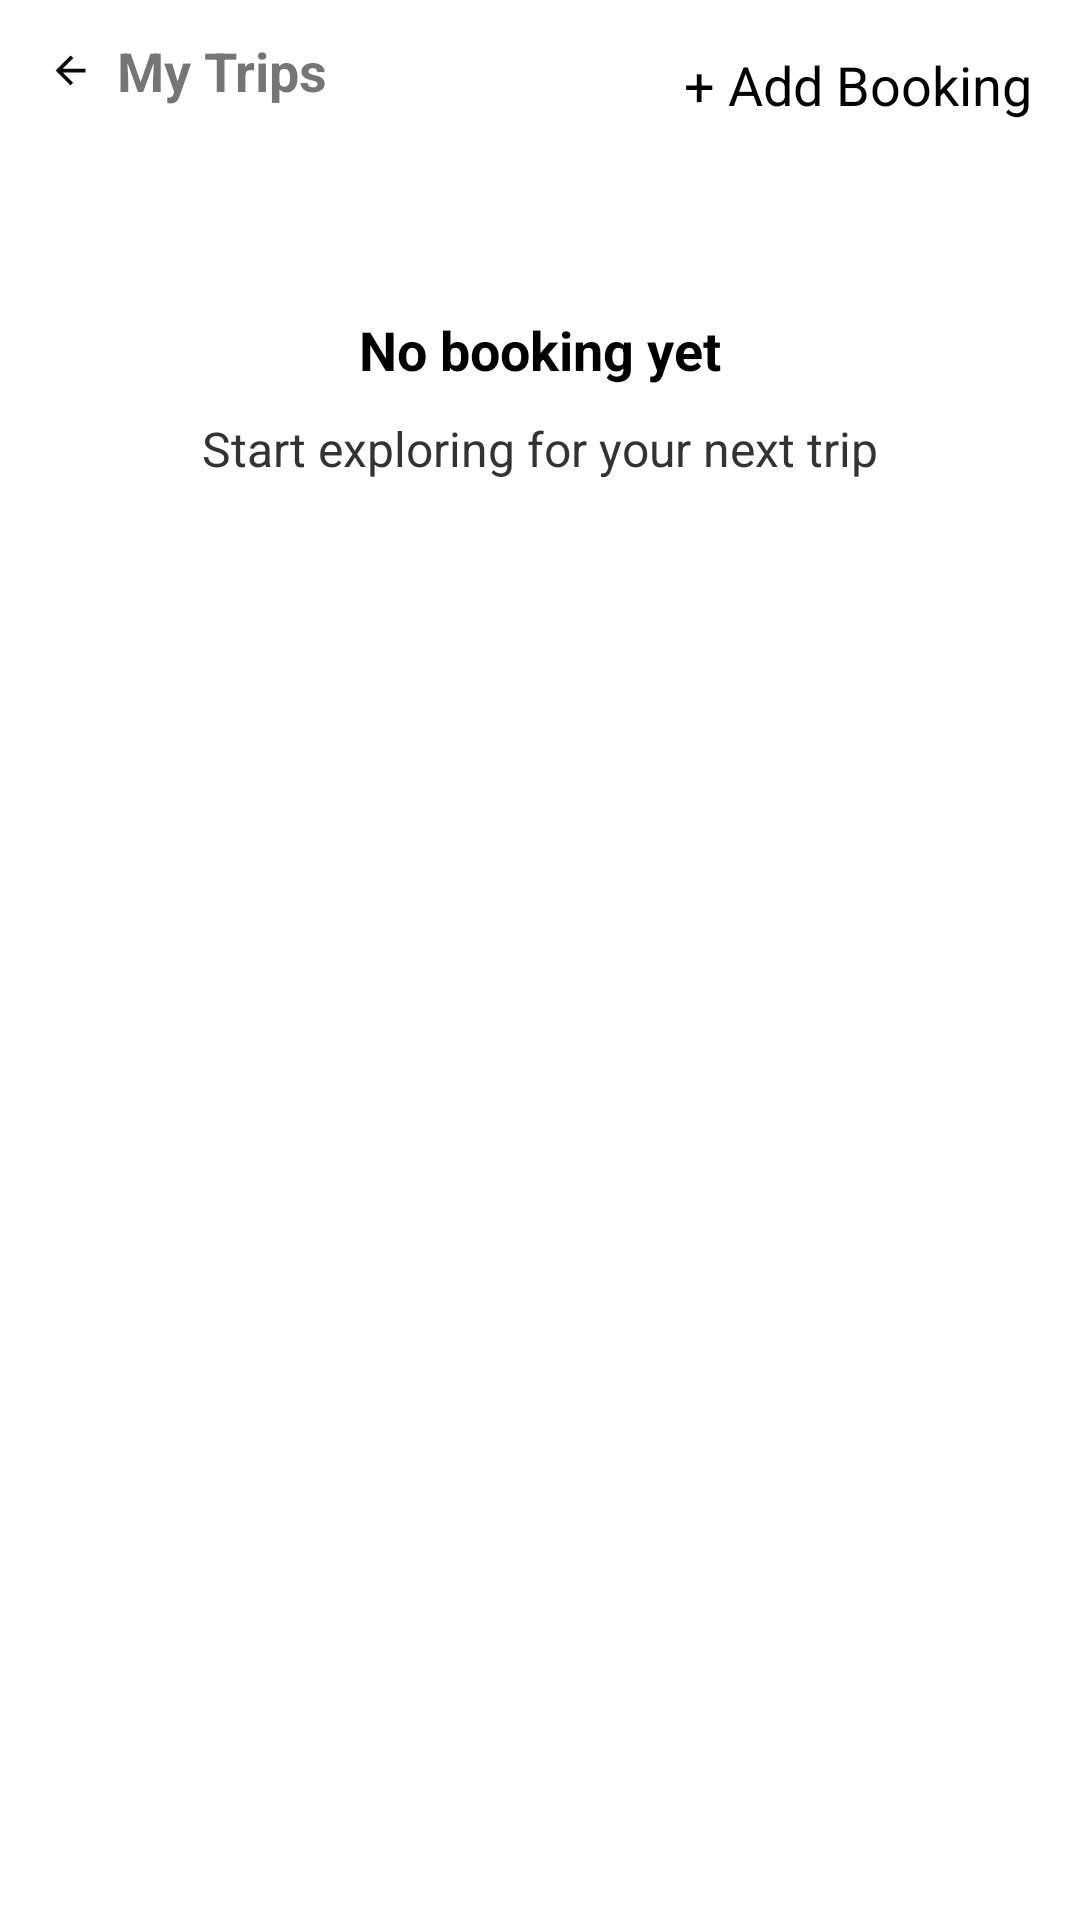

Locate icon controls on the screen. Image size 1080×1920, boxes as {"left": x1, "top": y1, "right": x2, "bottom": y2}.
arrow back: {"left": 55, "top": 55, "right": 86, "bottom": 86}
